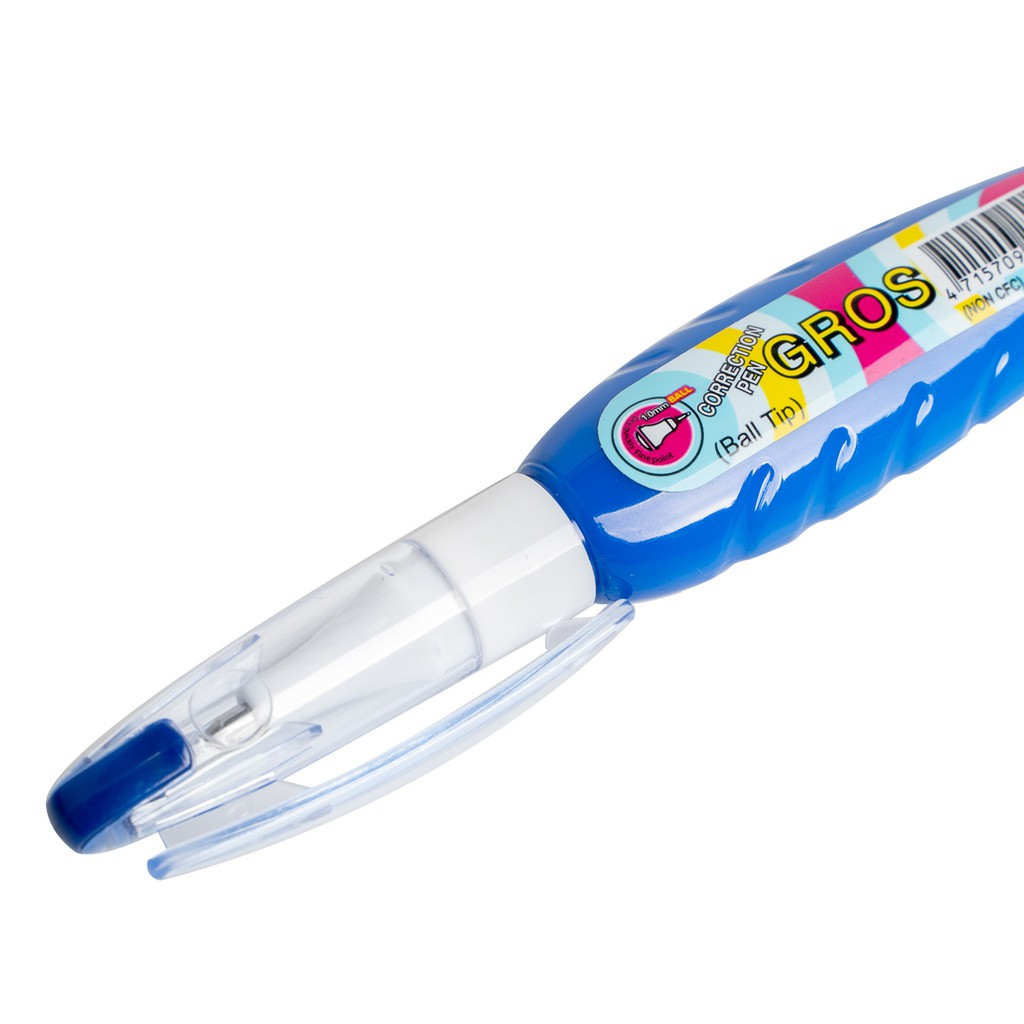Correction_fluid: (34, 144, 1024, 899)
